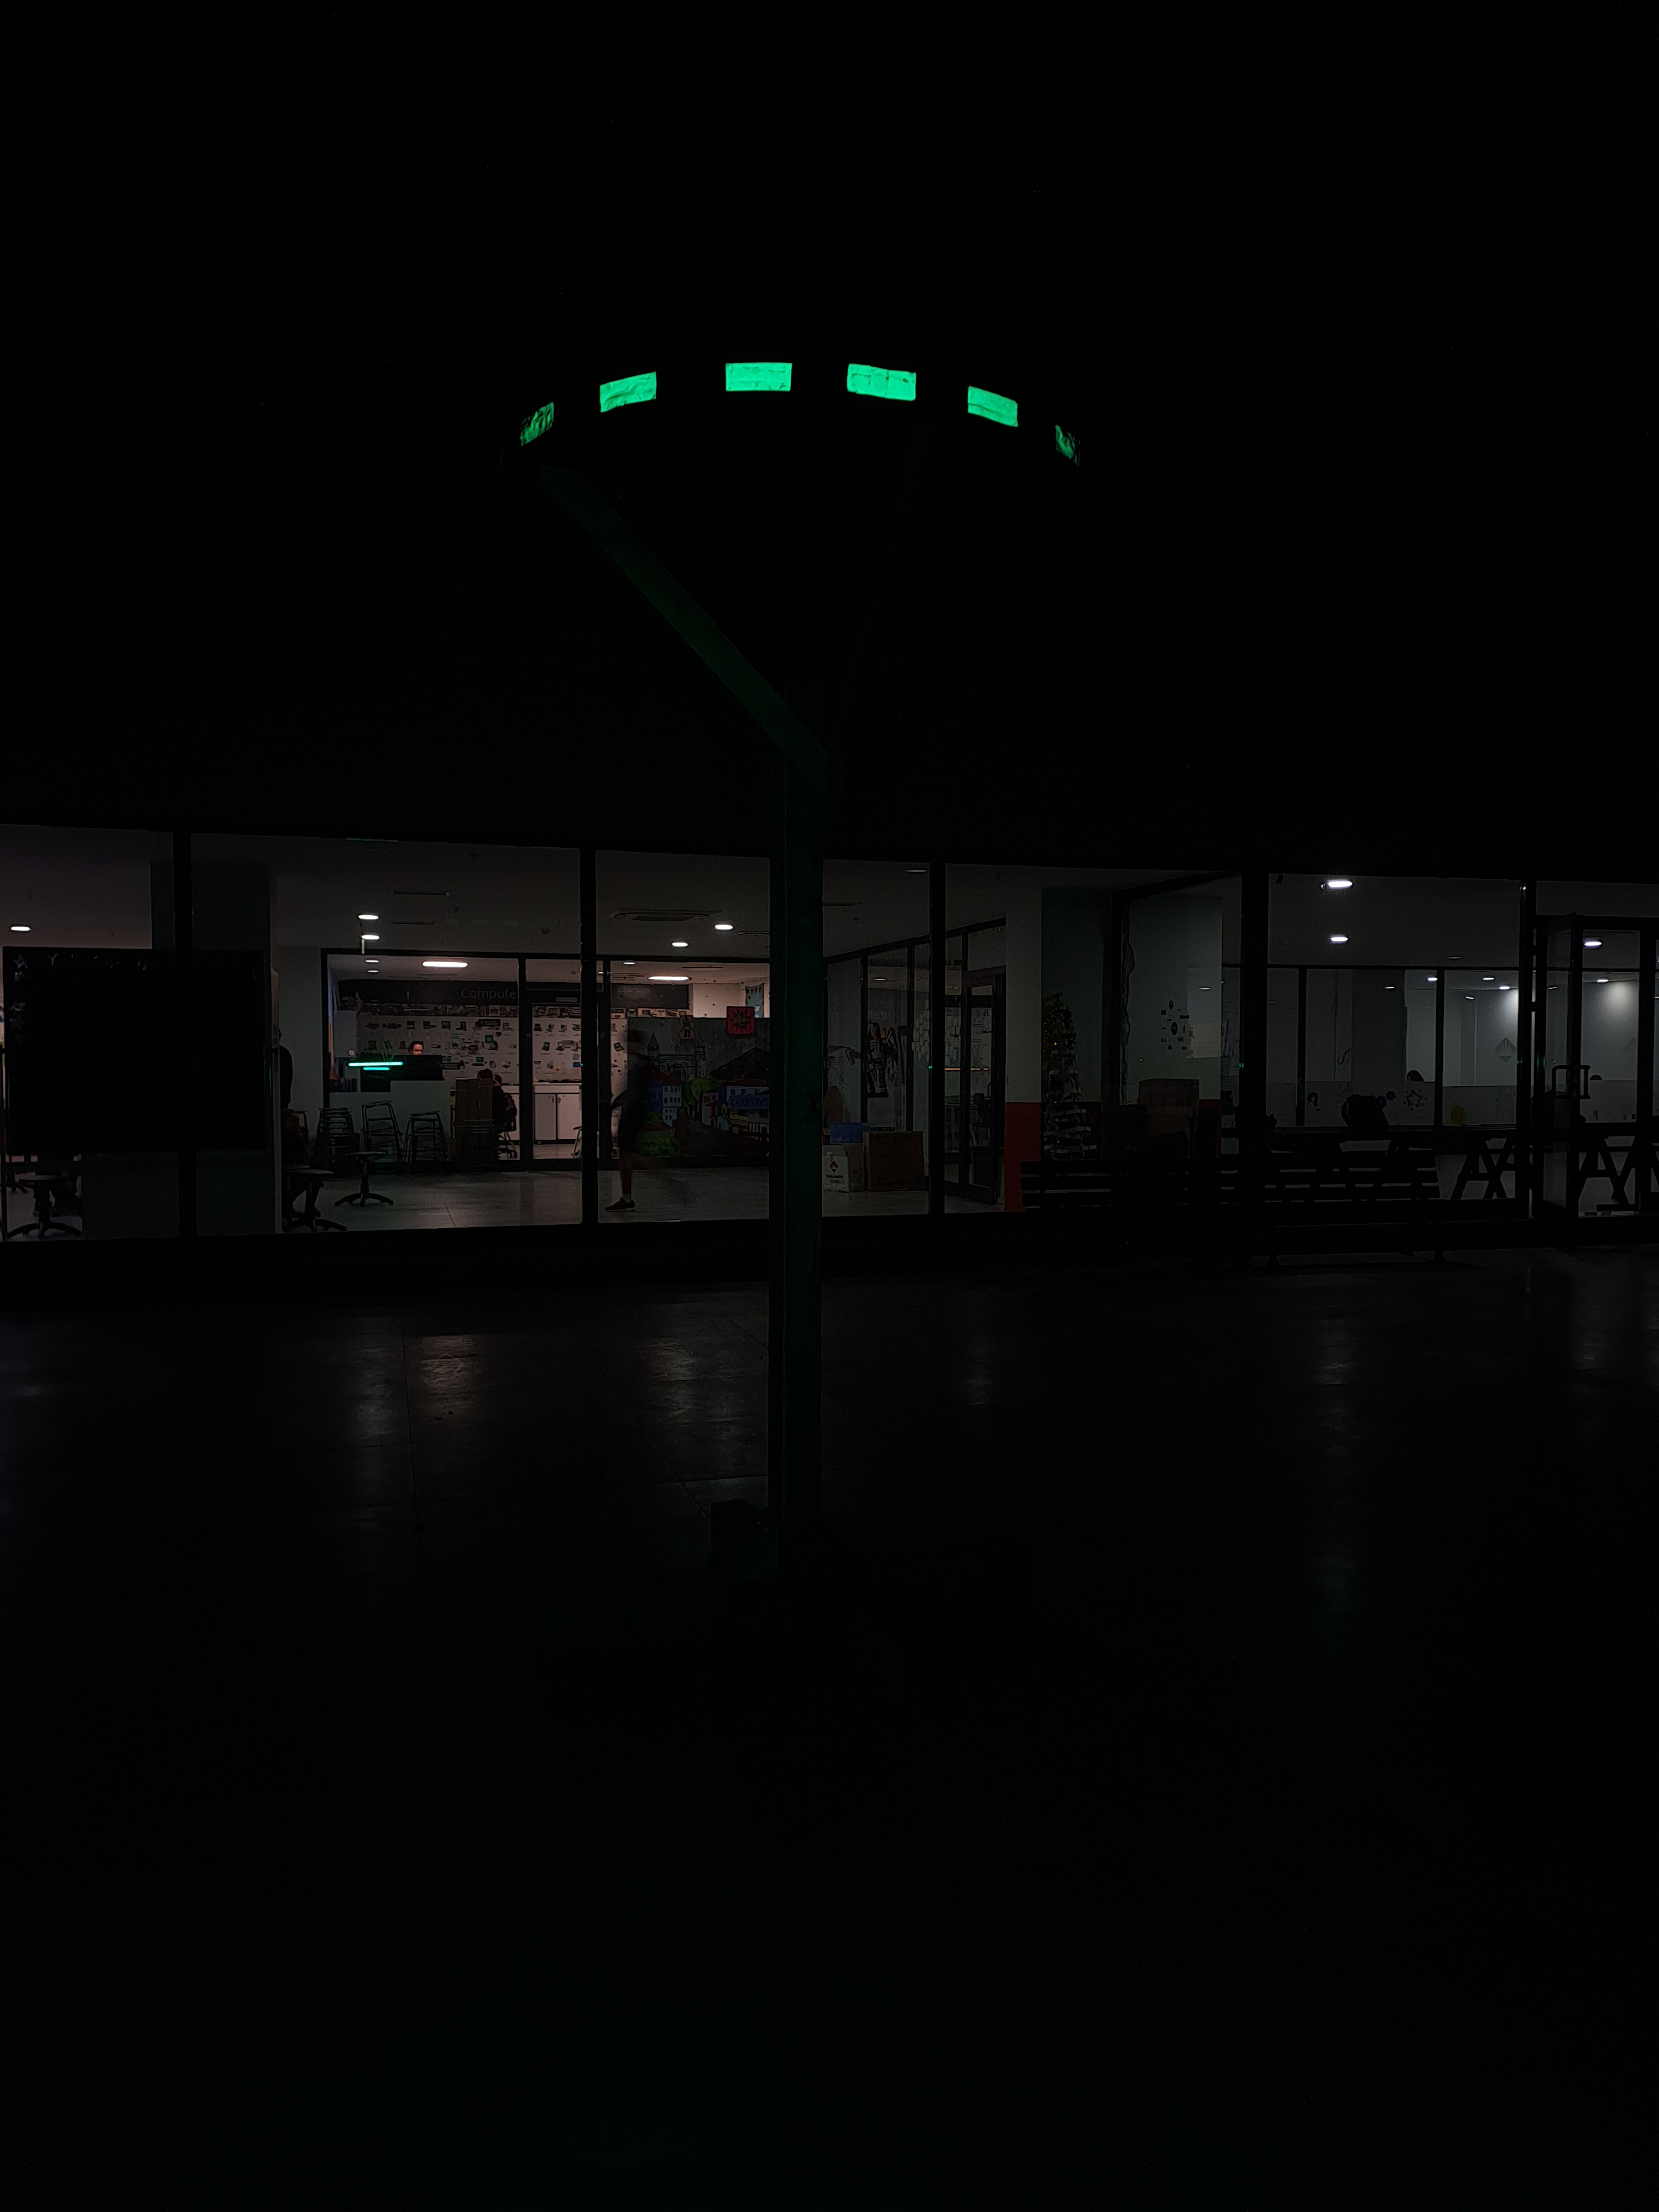hoop: (516, 357, 1079, 465)
